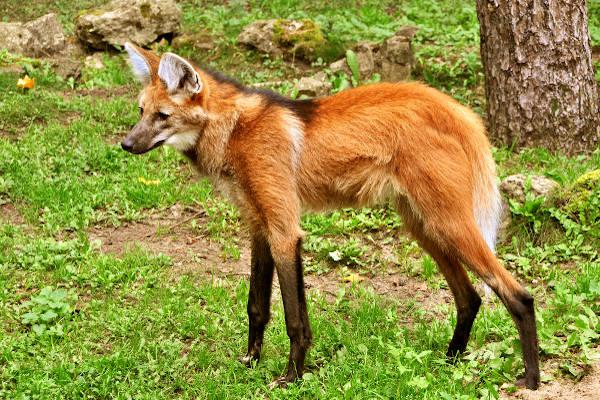LoboGuara: (113, 39, 551, 396)
